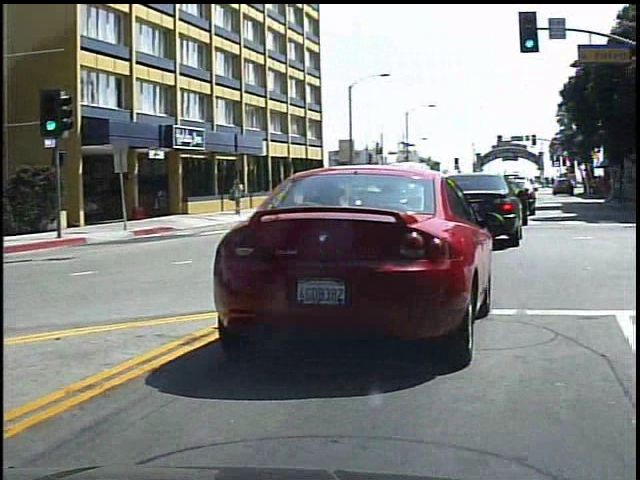person: (233, 174, 251, 218)
